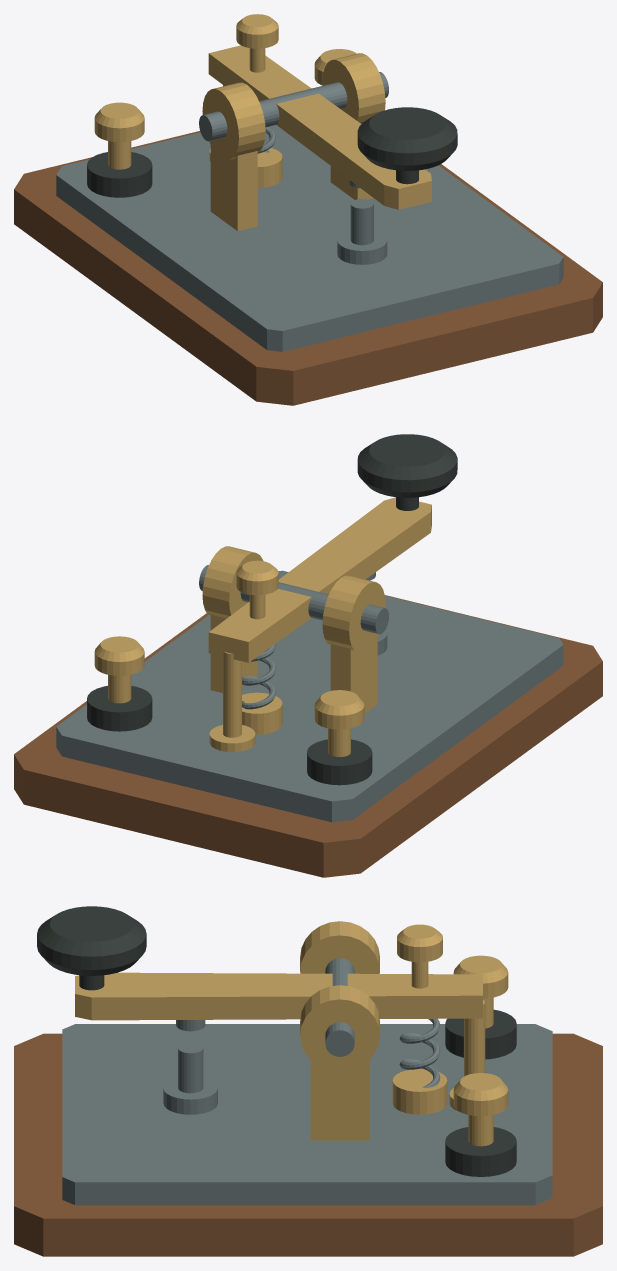
3 views of the same model, one above another, from view 1: azimuth 30°, elevation 25°; view 2: azimuth 150°, elevation 25°; view 3: azimuth 270°, elevation 25° (orthographic). The views are drawn at different scales.
Parts seen in each view (by area): view 1: WholeLowCastMountPlate, WholeChamferedWoodBase, WholeLongStraightKeyLever, WholeFrontFingerButton, WholeBearingPedestalLeft, WholeAnnularBearingLeft, WholeAnnularBearingRight, WholeSteppedBindingPostLeft, WholeTerminalInsulatorLeft, WholeLowerFixedContactPost, WholeTransverseKeyAxle, WholeRearTensionScrewAppearance (+3 smaller); view 2: WholeLowCastMountPlate, WholeChamferedWoodBase, WholeLongStraightKeyLever, WholeFrontFingerButton, WholeAnnularBearingLeft, WholeAnnularBearingRight, WholeRearFixedRestStop, WholeBearingPedestalLeft, WholeSteppedBindingPostRight, WholeSteppedBindingPostLeft, WholeTerminalInsulatorLeft, WholeTerminalInsulatorRight (+5 smaller); view 3: WholeLowCastMountPlate, WholeChamferedWoodBase, WholeLongStraightKeyLever, WholeFrontFingerButton, WholeAnnularBearingRight, WholeBearingPedestalRight, WholeAnnularBearingLeft, WholeSteppedBindingPostRight, WholeTerminalInsulatorRight, WholeLowerFixedContactPost, WholeSpringLowerSeat, WholeRearTensionScrewAppearance (+5 smaller).
Part boxes in pixels (bbox=[...]): WholeLowCastMountPlate: bbox=[56, 125, 563, 351]; WholeChamferedWoodBase: bbox=[14, 131, 602, 405]; WholeLongStraightKeyLever: bbox=[208, 45, 431, 209]; WholeFrontFingerButton: bbox=[357, 107, 457, 184]; WholeBearingPedestalLeft: bbox=[210, 145, 257, 231]; WholeAnnularBearingLeft: bbox=[202, 82, 265, 159]; WholeAnnularBearingRight: bbox=[322, 53, 385, 123]; WholeSteppedBindingPostLeft: bbox=[94, 102, 144, 169]; WholeTerminalInsulatorLeft: bbox=[87, 152, 152, 197]; WholeLowerFixedContactPost: bbox=[337, 199, 387, 264]; WholeTransverseKeyAxle: bbox=[199, 72, 388, 141]; WholeRearTensionScrewAppearance: bbox=[236, 14, 278, 72]; WholeLowCastMountPlate: bbox=[56, 570, 563, 822]; WholeChamferedWoodBase: bbox=[14, 595, 602, 877]; WholeLongStraightKeyLever: bbox=[208, 497, 431, 662]; WholeFrontFingerButton: bbox=[357, 434, 457, 510]; WholeAnnularBearingLeft: bbox=[322, 575, 385, 652]; WholeAnnularBearingRight: bbox=[202, 546, 263, 618]; WholeRearFixedRestStop: bbox=[209, 652, 255, 752]; WholeBearingPedestalLeft: bbox=[330, 638, 377, 713]; WholeSteppedBindingPostRight: bbox=[94, 636, 144, 703]; WholeSteppedBindingPostLeft: bbox=[314, 690, 364, 756]; WholeTerminalInsulatorLeft: bbox=[307, 739, 372, 785]; WholeTerminalInsulatorRight: bbox=[87, 686, 152, 731]; WholeLowCastMountPlate: bbox=[62, 1024, 552, 1205]; WholeChamferedWoodBase: bbox=[14, 1033, 602, 1256]; WholeLongStraightKeyLever: bbox=[75, 972, 482, 1020]; WholeFrontFingerButton: bbox=[37, 906, 146, 990]; WholeAnnularBearingRight: bbox=[300, 985, 379, 1071]; WholeBearingPedestalRight: bbox=[310, 1060, 369, 1140]; WholeAnnularBearingLeft: bbox=[300, 921, 379, 973]; WholeSteppedBindingPostRight: bbox=[453, 1073, 508, 1146]; WholeTerminalInsulatorRight: bbox=[445, 1127, 516, 1176]; WholeLowerFixedContactPost: bbox=[163, 1042, 217, 1114]; WholeSpringLowerSeat: bbox=[392, 1069, 447, 1114]; WholeRearTensionScrewAppearance: bbox=[397, 924, 442, 988].
Bounding box in the file's own units: 0.208 × 0.126 × 0.28.
